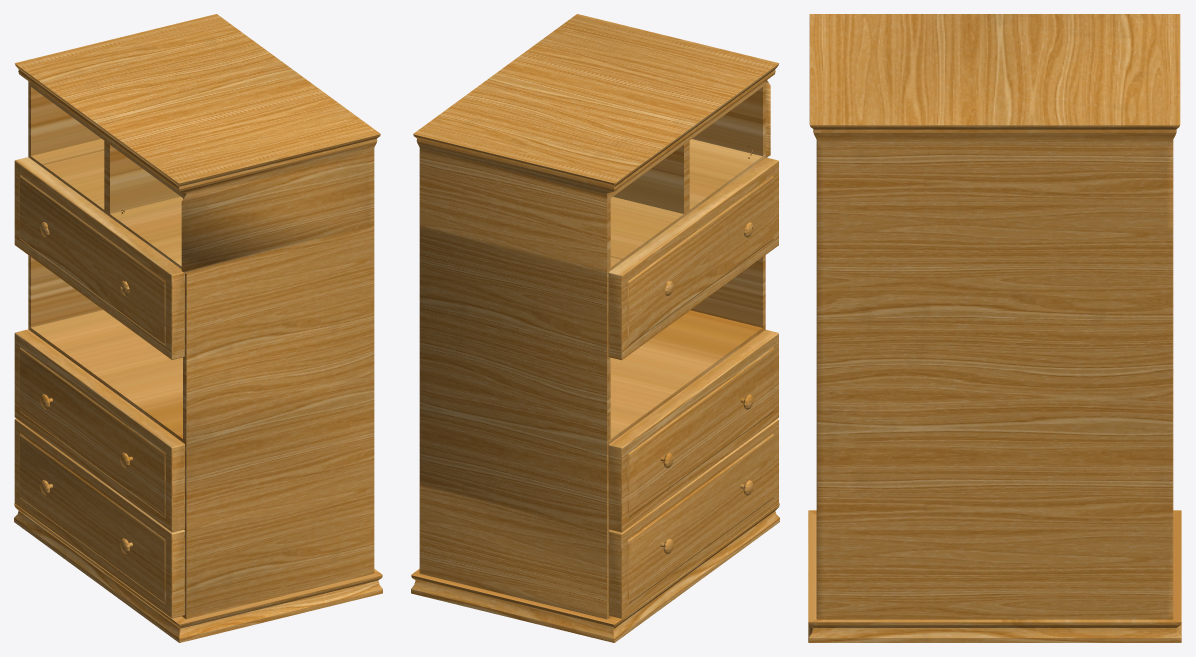
File: mueble.obj
The picture shows the model from 3 angles, left to right: view 1: azimuth 30°, elevation 25°; view 2: azimuth 150°, elevation 25°; view 3: azimuth 270°, elevation 25°; orthographic projection. The views are drawn at different scales.
Parts seen in each view (by area): view 1: DRAWEROBJ; view 2: DRAWEROBJ; view 3: DRAWEROBJ.
Part boxes in pixels (box(x1,y1,x2,y2)): DRAWEROBJ: box(14, 14, 382, 642); DRAWEROBJ: box(411, 14, 779, 642); DRAWEROBJ: box(808, 14, 1181, 642).
Bounding box in the file's own units: 15.6 × 31.41 × 20.55.
Materials: 1 (1 with a texture image).
